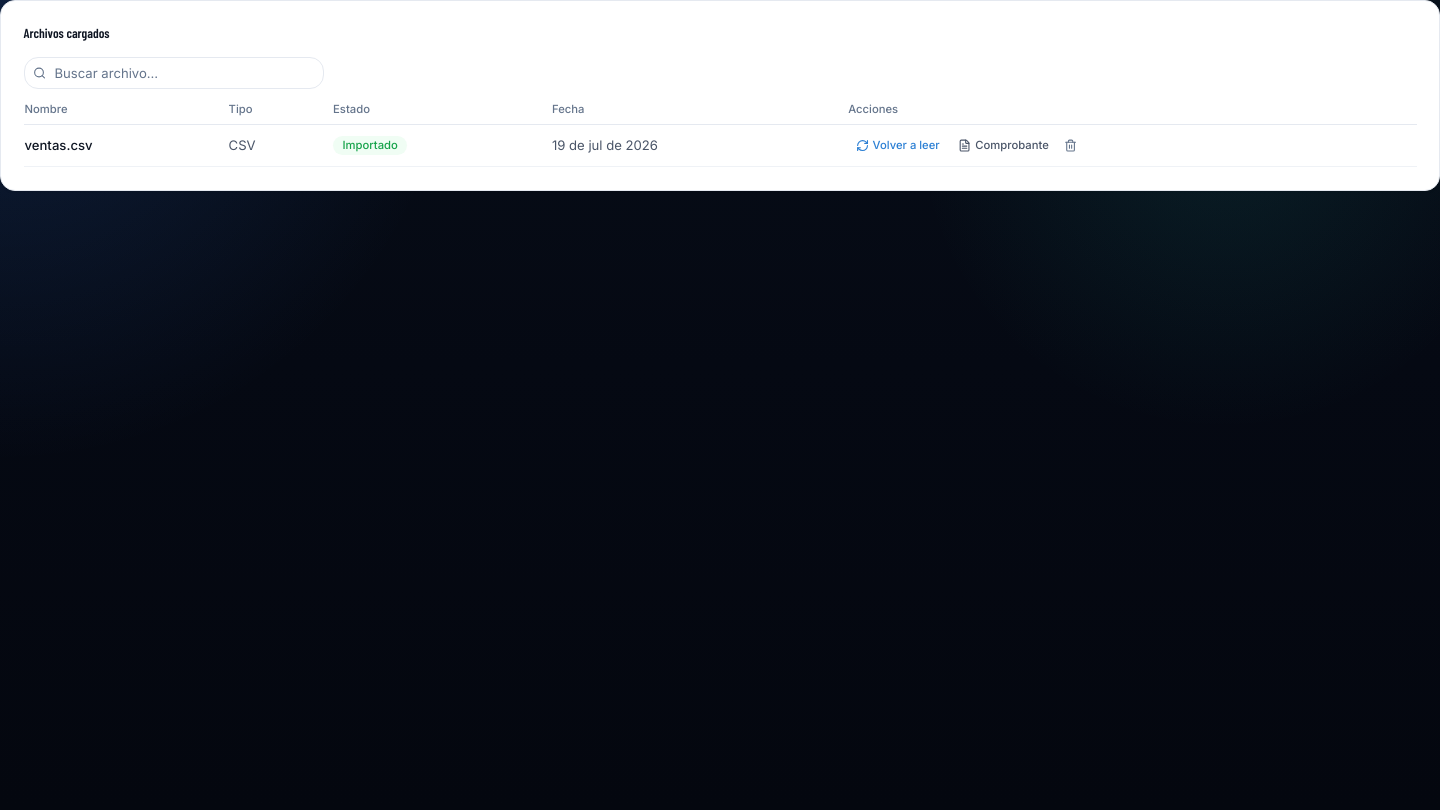
Test: FileListSection — compuerta de relectura (B1) › retomar una sesión ya frenada abre directo la confirmación
Click the button titled "Volver a leer este archivo" at (898, 146), box top-left (848, 134), bottom-right (947, 157)
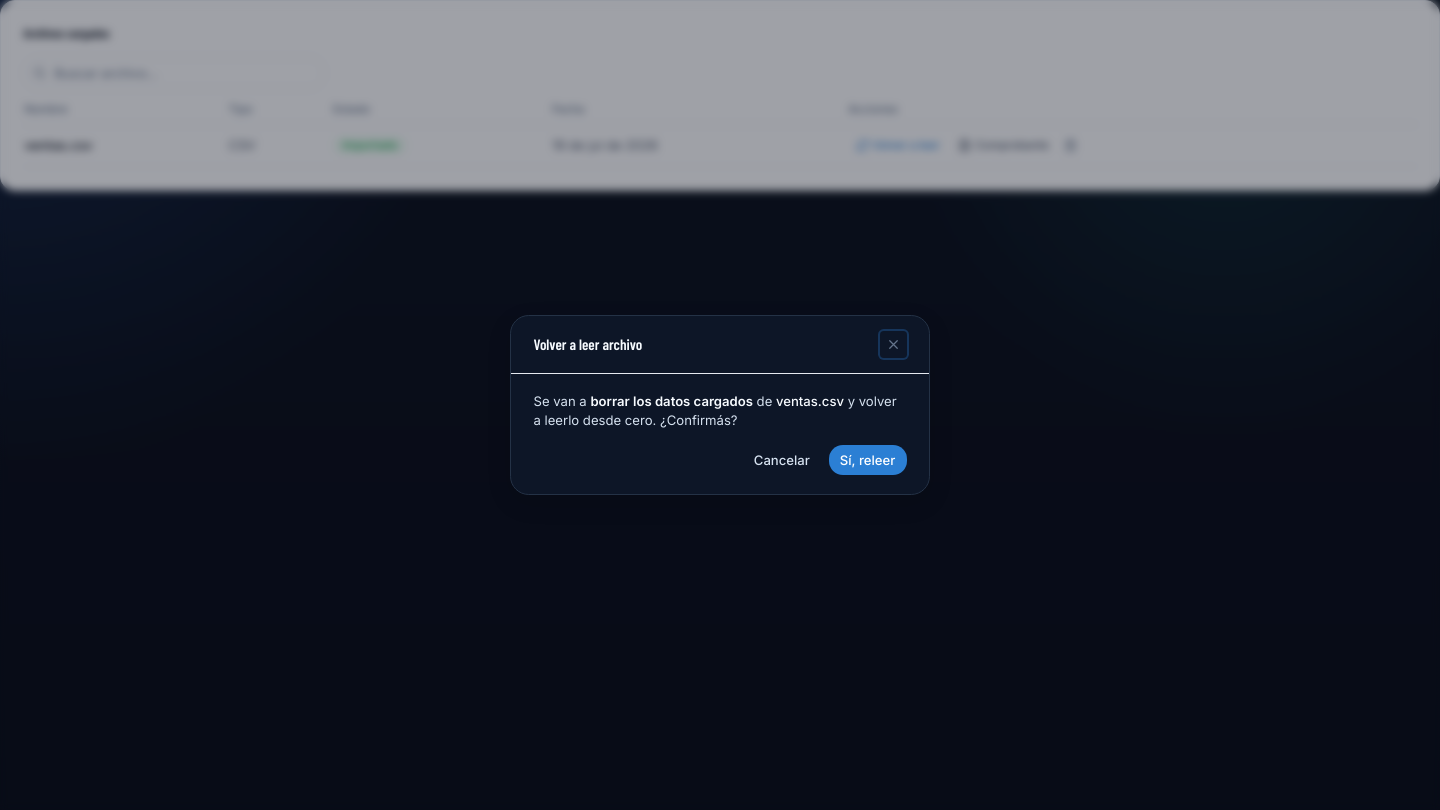
Click the button "Sí, releer" at (868, 460), box top-left (829, 445), bottom-right (906, 475)
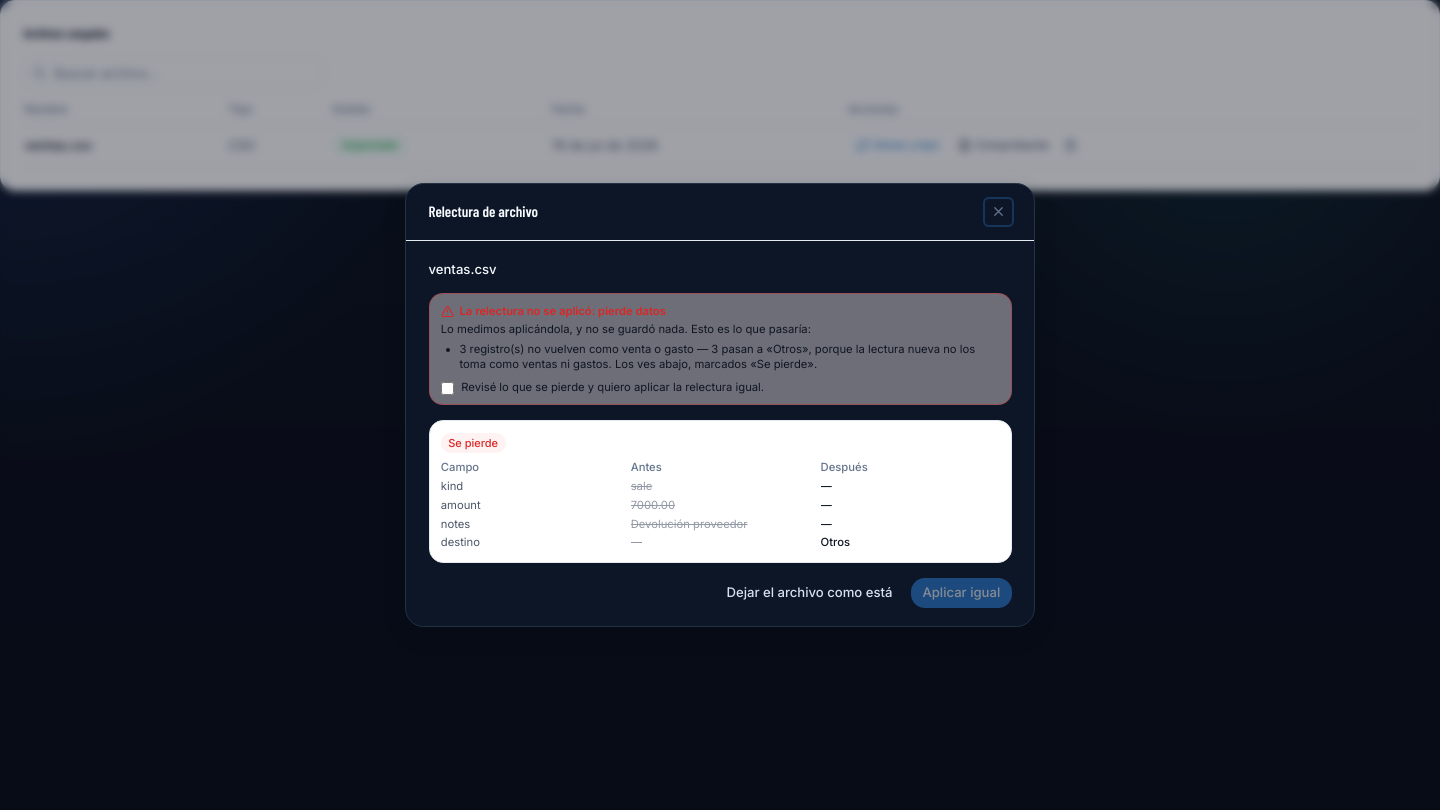
expect the text "La relectura no se aplicó: pierde datos" is shown: met, box top-left (460, 304), bottom-right (666, 319)
expect the button "Aplicar igual" is disabled: met, box top-left (911, 578), bottom-right (1012, 608)
